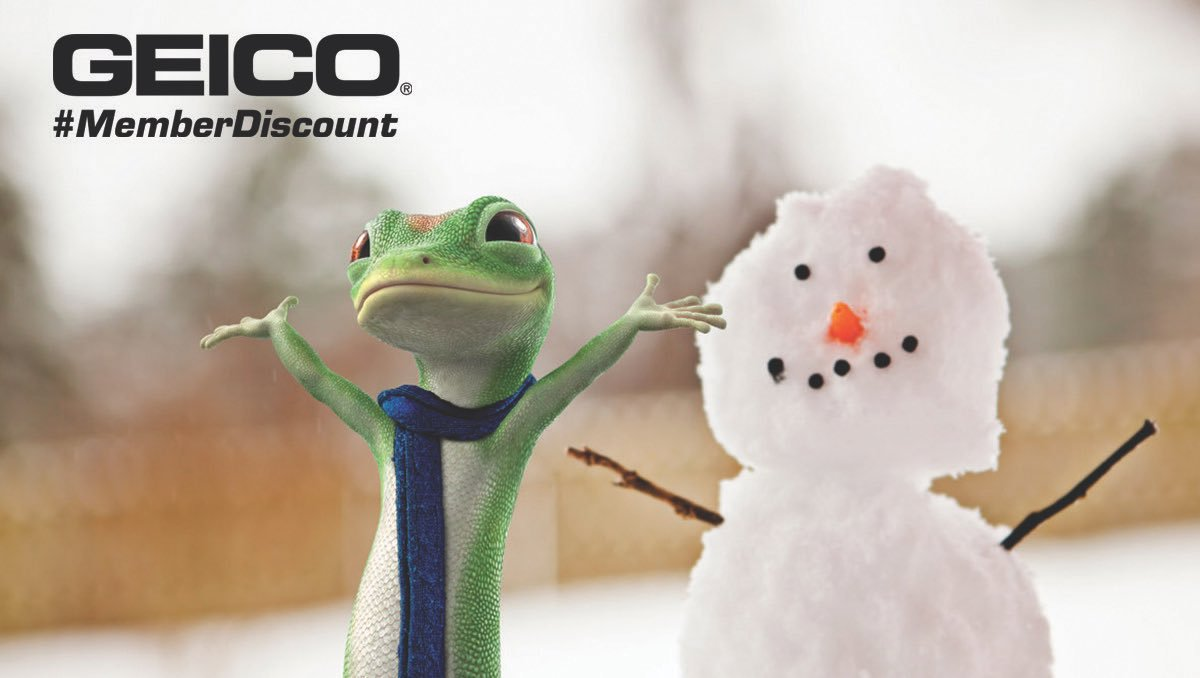geico: (48, 28, 431, 106)
